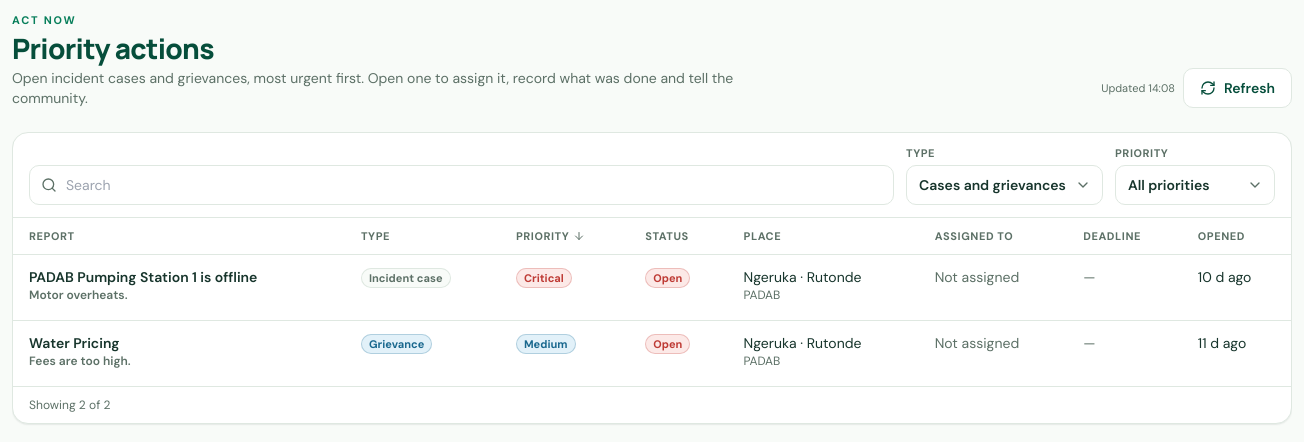
ActionsPage › filters to grievances only
Select "Grievances" in the dropdown labelled "Type" at (1004, 185), box [906,165,1103,205]
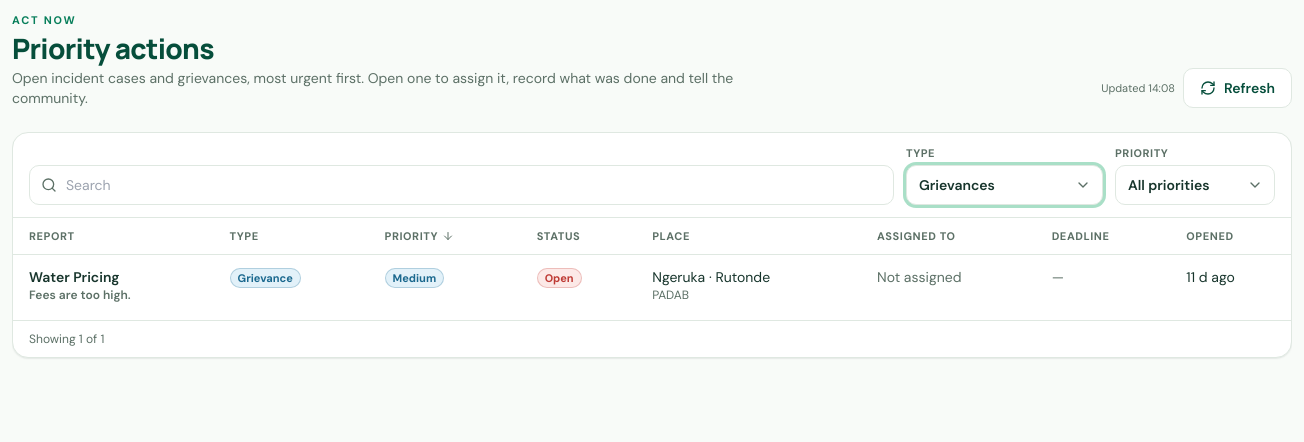
Now no buttons "PADAB Pumping Station 1 is offline" are shown
